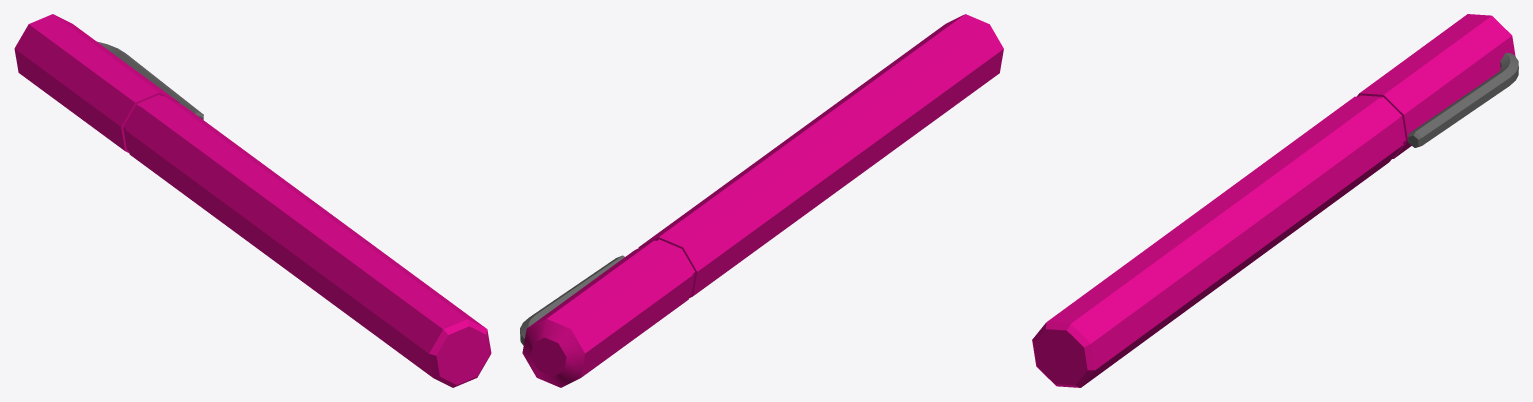
File: Lapiz12.fbx
3 views of the same model, side by side, from view 1: azimuth 30°, elevation 25°; view 2: azimuth 150°, elevation 25°; view 3: azimuth 330°, elevation 25° (orthographic).
Visible parts, largest first — view 1: Lapiz12; view 2: Lapiz12; view 3: Lapiz12.
Part boxes in pixels (left/top/right/bottom): Lapiz12: left=14, top=14, right=491, bottom=387; Lapiz12: left=520, top=14, right=1003, bottom=387; Lapiz12: left=1032, top=14, right=1518, bottom=387.
Size of the model in its own units: 0.0122 by 0.00912 by 0.1059.
